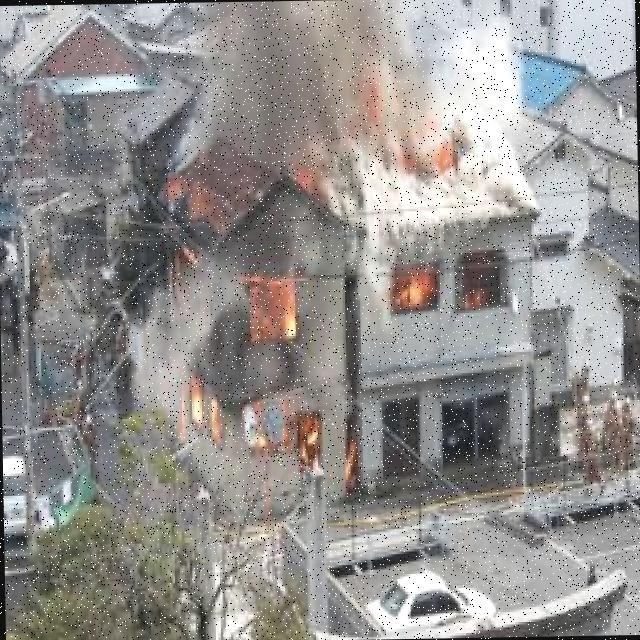Fire: (152, 161, 322, 467), (345, 81, 461, 173), (379, 249, 494, 307)
